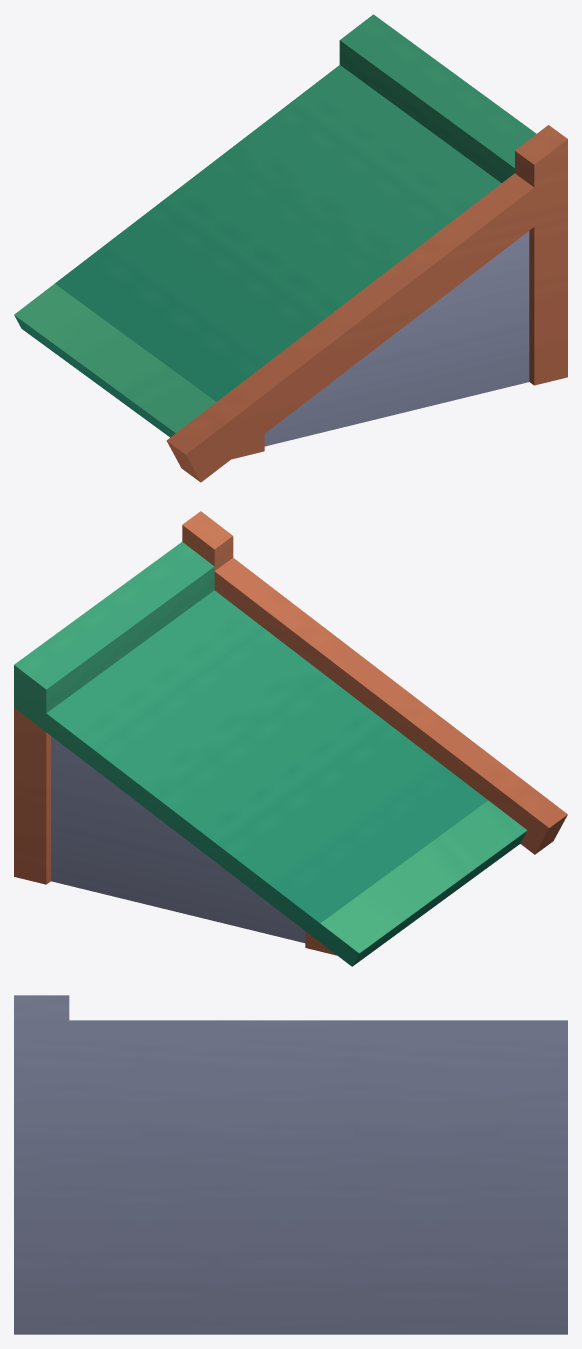
The model's file is roofRight.fbx.
3 views of the same model, one above another, from view 1: azimuth 30°, elevation 25°; view 2: azimuth 150°, elevation 25°; view 3: azimuth 270°, elevation 25° (orthographic). The views are drawn at different scales.
Parts seen in each view (by area): view 1: roofRight; view 2: roofRight; view 3: roofRight.
Part boxes in pixels (left/top/right/bottom): roofRight: left=14, top=14, right=567, bottom=482; roofRight: left=14, top=511, right=567, bottom=966; roofRight: left=14, top=995, right=567, bottom=1334.
Bounding box in the file's own units: 1.13 × 1 × 0.7206.
